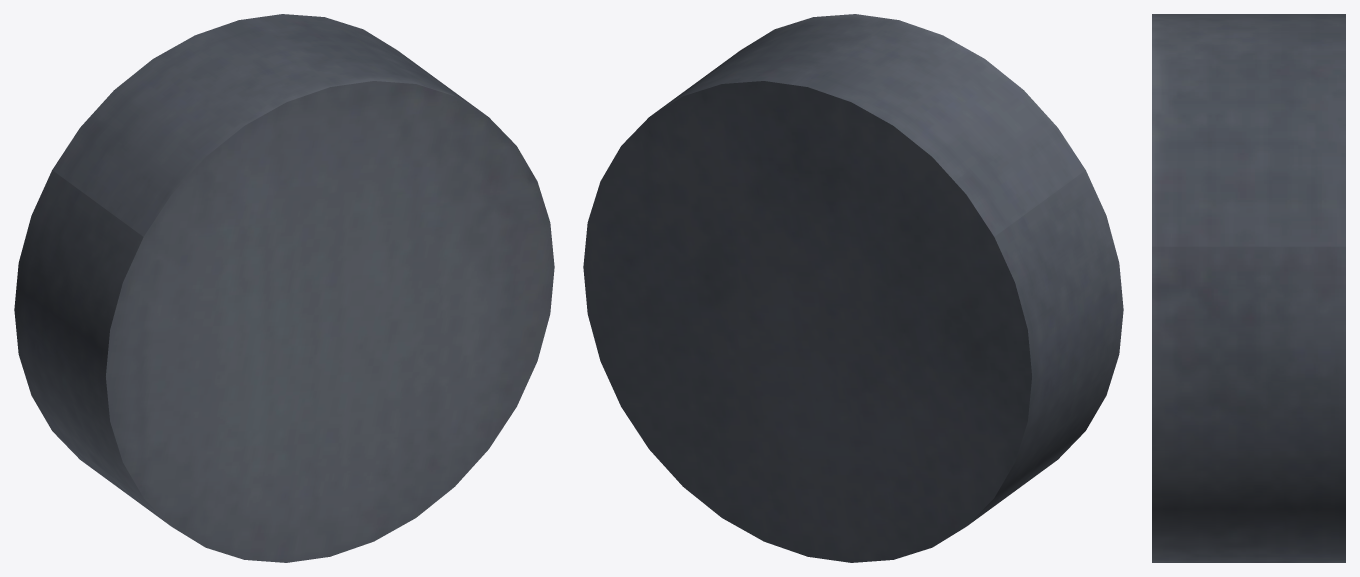
File: dial__dial_knob.glb
3 views of the same model, side by side, from view 1: azimuth 30°, elevation 25°; view 2: azimuth 150°, elevation 25°; view 3: azimuth 270°, elevation 25° (orthographic). The views are drawn at different scales.
Visible parts, largest first — view 1: geometry_0; view 2: geometry_0; view 3: geometry_0.
Boxes of the visible parts, x1,y1,x2,y2 form: geometry_0: (14,14,554,562); geometry_0: (583,14,1123,562); geometry_0: (1152,14,1345,562).
Size of the model in its own units: 0.034 by 0.034 by 0.012.
1 material, 1 textured.
